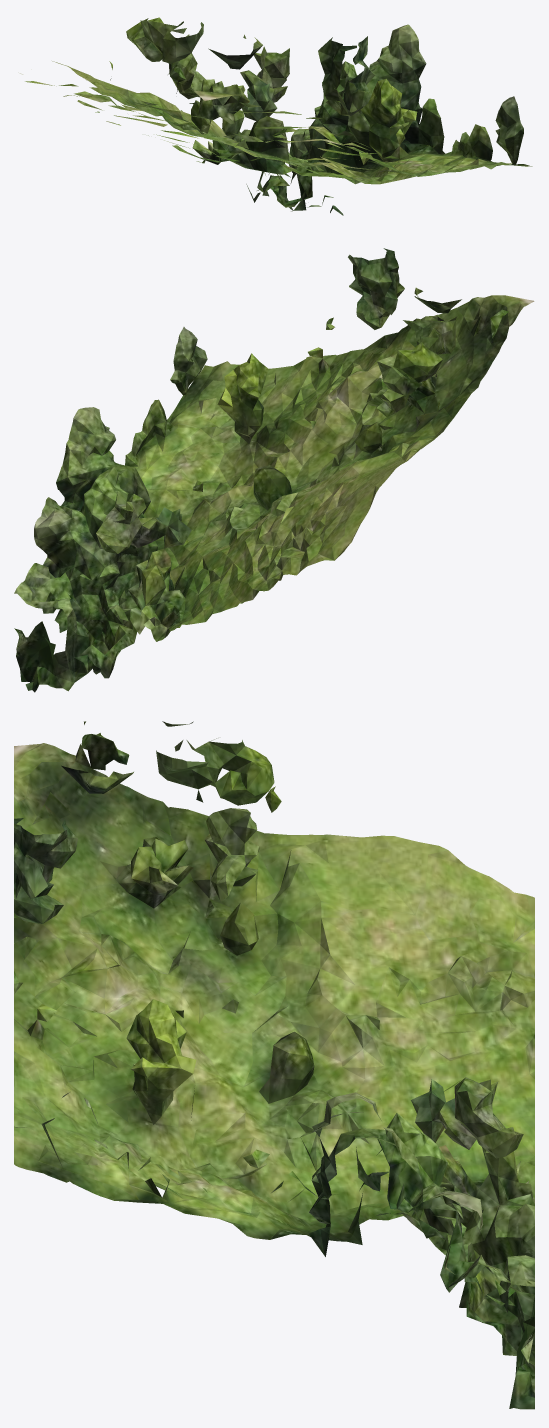
3 views of the same model, one above another, from view 1: azimuth 30°, elevation 25°; view 2: azimuth 150°, elevation 25°; view 3: azimuth 270°, elevation 25° (orthographic). The views are drawn at different scales.
Bounding box in the file's own units: 52.22 × 52.22 × 52.22.
Materials: 5 (5 with a texture image).
